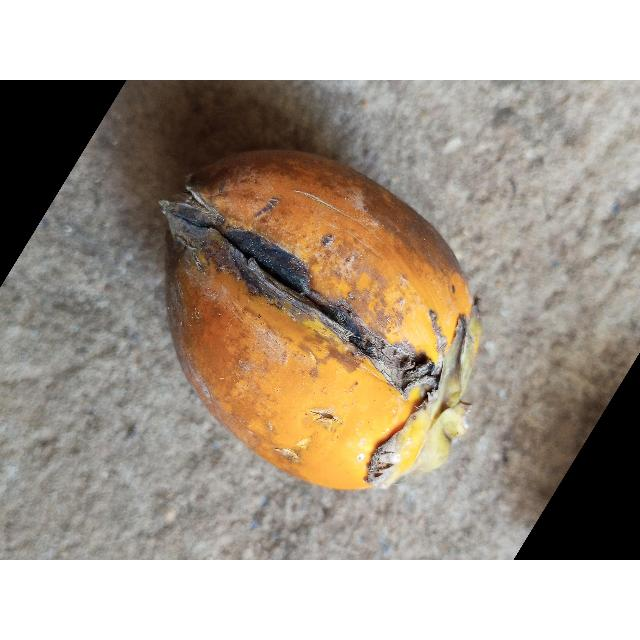damaged: (157, 150, 482, 493)
